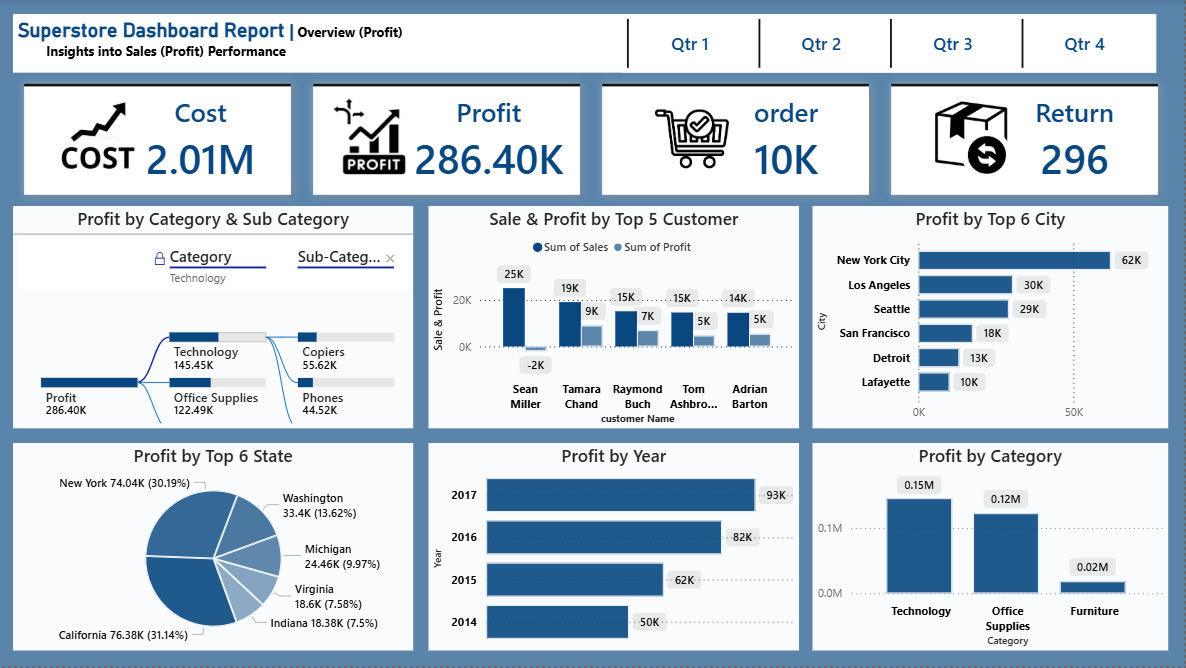

The page's visual inventory and layout, read from the dashboard file:
{"tool":"powerbi","page":{"name":"BY Profit ","canvas":[1280,720],"ordinal":1},"visuals":[{"type":"cardVisual","fields":{"Data":["Orders$FilterDatabase.Total_Cost","Orders$FilterDatabase.Profit","Orders.total_order","Returns.return_total"]},"box":[16,80,1248,144],"z":0},{"type":"clusteredColumnChart","title":"Sale & Profit by Top 5 Customer","fields":{"Category":["Orders$FilterDatabase.Customer Name"],"Y":["Orders$FilterDatabase.Sales","Orders$FilterDatabase.Profit"]},"box":[464,224,400,240],"z":1000},{"type":"clusteredColumnChart","title":"Profit by Category","fields":{"Category":["Orders$FilterDatabase.Category"],"Y":["Orders$FilterDatabase.Profit"]},"box":[880,480,384,224],"z":2000},{"type":"barChart","title":"Profit by Top 6 City","fields":{"Category":["Orders$FilterDatabase.City"],"Y":["Orders$FilterDatabase.Profit"]},"box":[880,224,384,240],"z":3000},{"type":"pieChart","title":"Profit by Top 6 State","fields":{"Y":["Orders$FilterDatabase.Profit"],"Category":["Orders$FilterDatabase.State"]},"box":[16,480,432,224],"z":4000},{"type":"barChart","title":"Profit by Year","fields":{"Category":["Orders$FilterDatabase.Order Date.Variation.Date Hierarchy.Year"],"Y":["Orders$FilterDatabase.Profit"]},"box":[464,480,400,224],"z":5000},{"type":"decompositionTreeVisual","title":"Profit by Category & Sub Category","fields":{"Analyze":["Orders$FilterDatabase.Profit"],"ExplainBy":["Orders$FilterDatabase.Category","Orders$FilterDatabase.Sub-Category"]},"box":[16,224,432,240],"z":6000},{"type":"textbox","box":[16.2,16.2,1233.9,63.1],"z":7000},{"type":"advancedSlicerVisual","fields":{"Values":["Orders$FilterDatabase.Order Date.Variation.Date Hierarchy.Quarter"]},"box":[673.6,16.2,576.4,63.1],"z":8000}]}

Visuals, with their boxes in screenshot pixels (x1, y1, x2, y2), scaled from the page's 1280x720 canvas onto the 1186x668 screenshot:
cardVisual - Orders$FilterDatabase.Total_Cost x Orders$FilterDatabase.Profit: box=[15, 74, 1171, 208]
"Sale & Profit by Top 5 Customer" clusteredColumnChart: box=[430, 208, 801, 430]
"Profit by Category" clusteredColumnChart: box=[815, 445, 1171, 653]
"Profit by Top 6 City" barChart: box=[815, 208, 1171, 430]
"Profit by Top 6 State" pieChart: box=[15, 445, 415, 653]
"Profit by Year" barChart: box=[430, 445, 801, 653]
"Profit by Category & Sub Category" decompositionTreeVisual: box=[15, 208, 415, 430]
textbox: box=[15, 15, 1158, 74]
advancedSlicerVisual - Orders$FilterDatabase.Order Date.Variation.Date Hierarchy.Quarter: box=[624, 15, 1158, 74]
